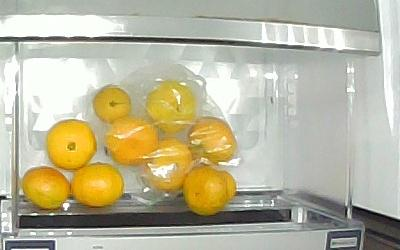tangerine: (45, 119, 98, 171), (71, 163, 124, 207), (21, 166, 70, 211), (223, 170, 237, 206)
tangerine_vinyl: (103, 114, 158, 168), (146, 79, 199, 135), (144, 136, 192, 192), (188, 116, 239, 165), (184, 163, 230, 215), (93, 84, 133, 125)
